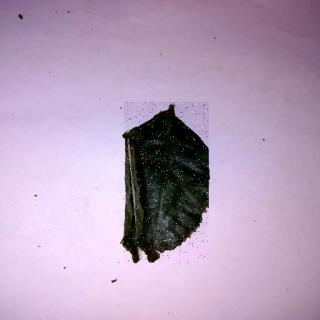Bird Eye Spot: (125, 103, 210, 263)
